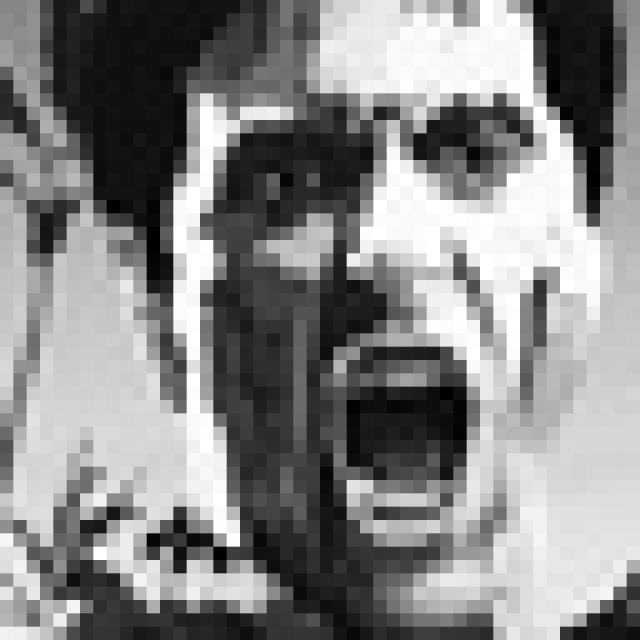angry: (210, 90, 552, 560)
